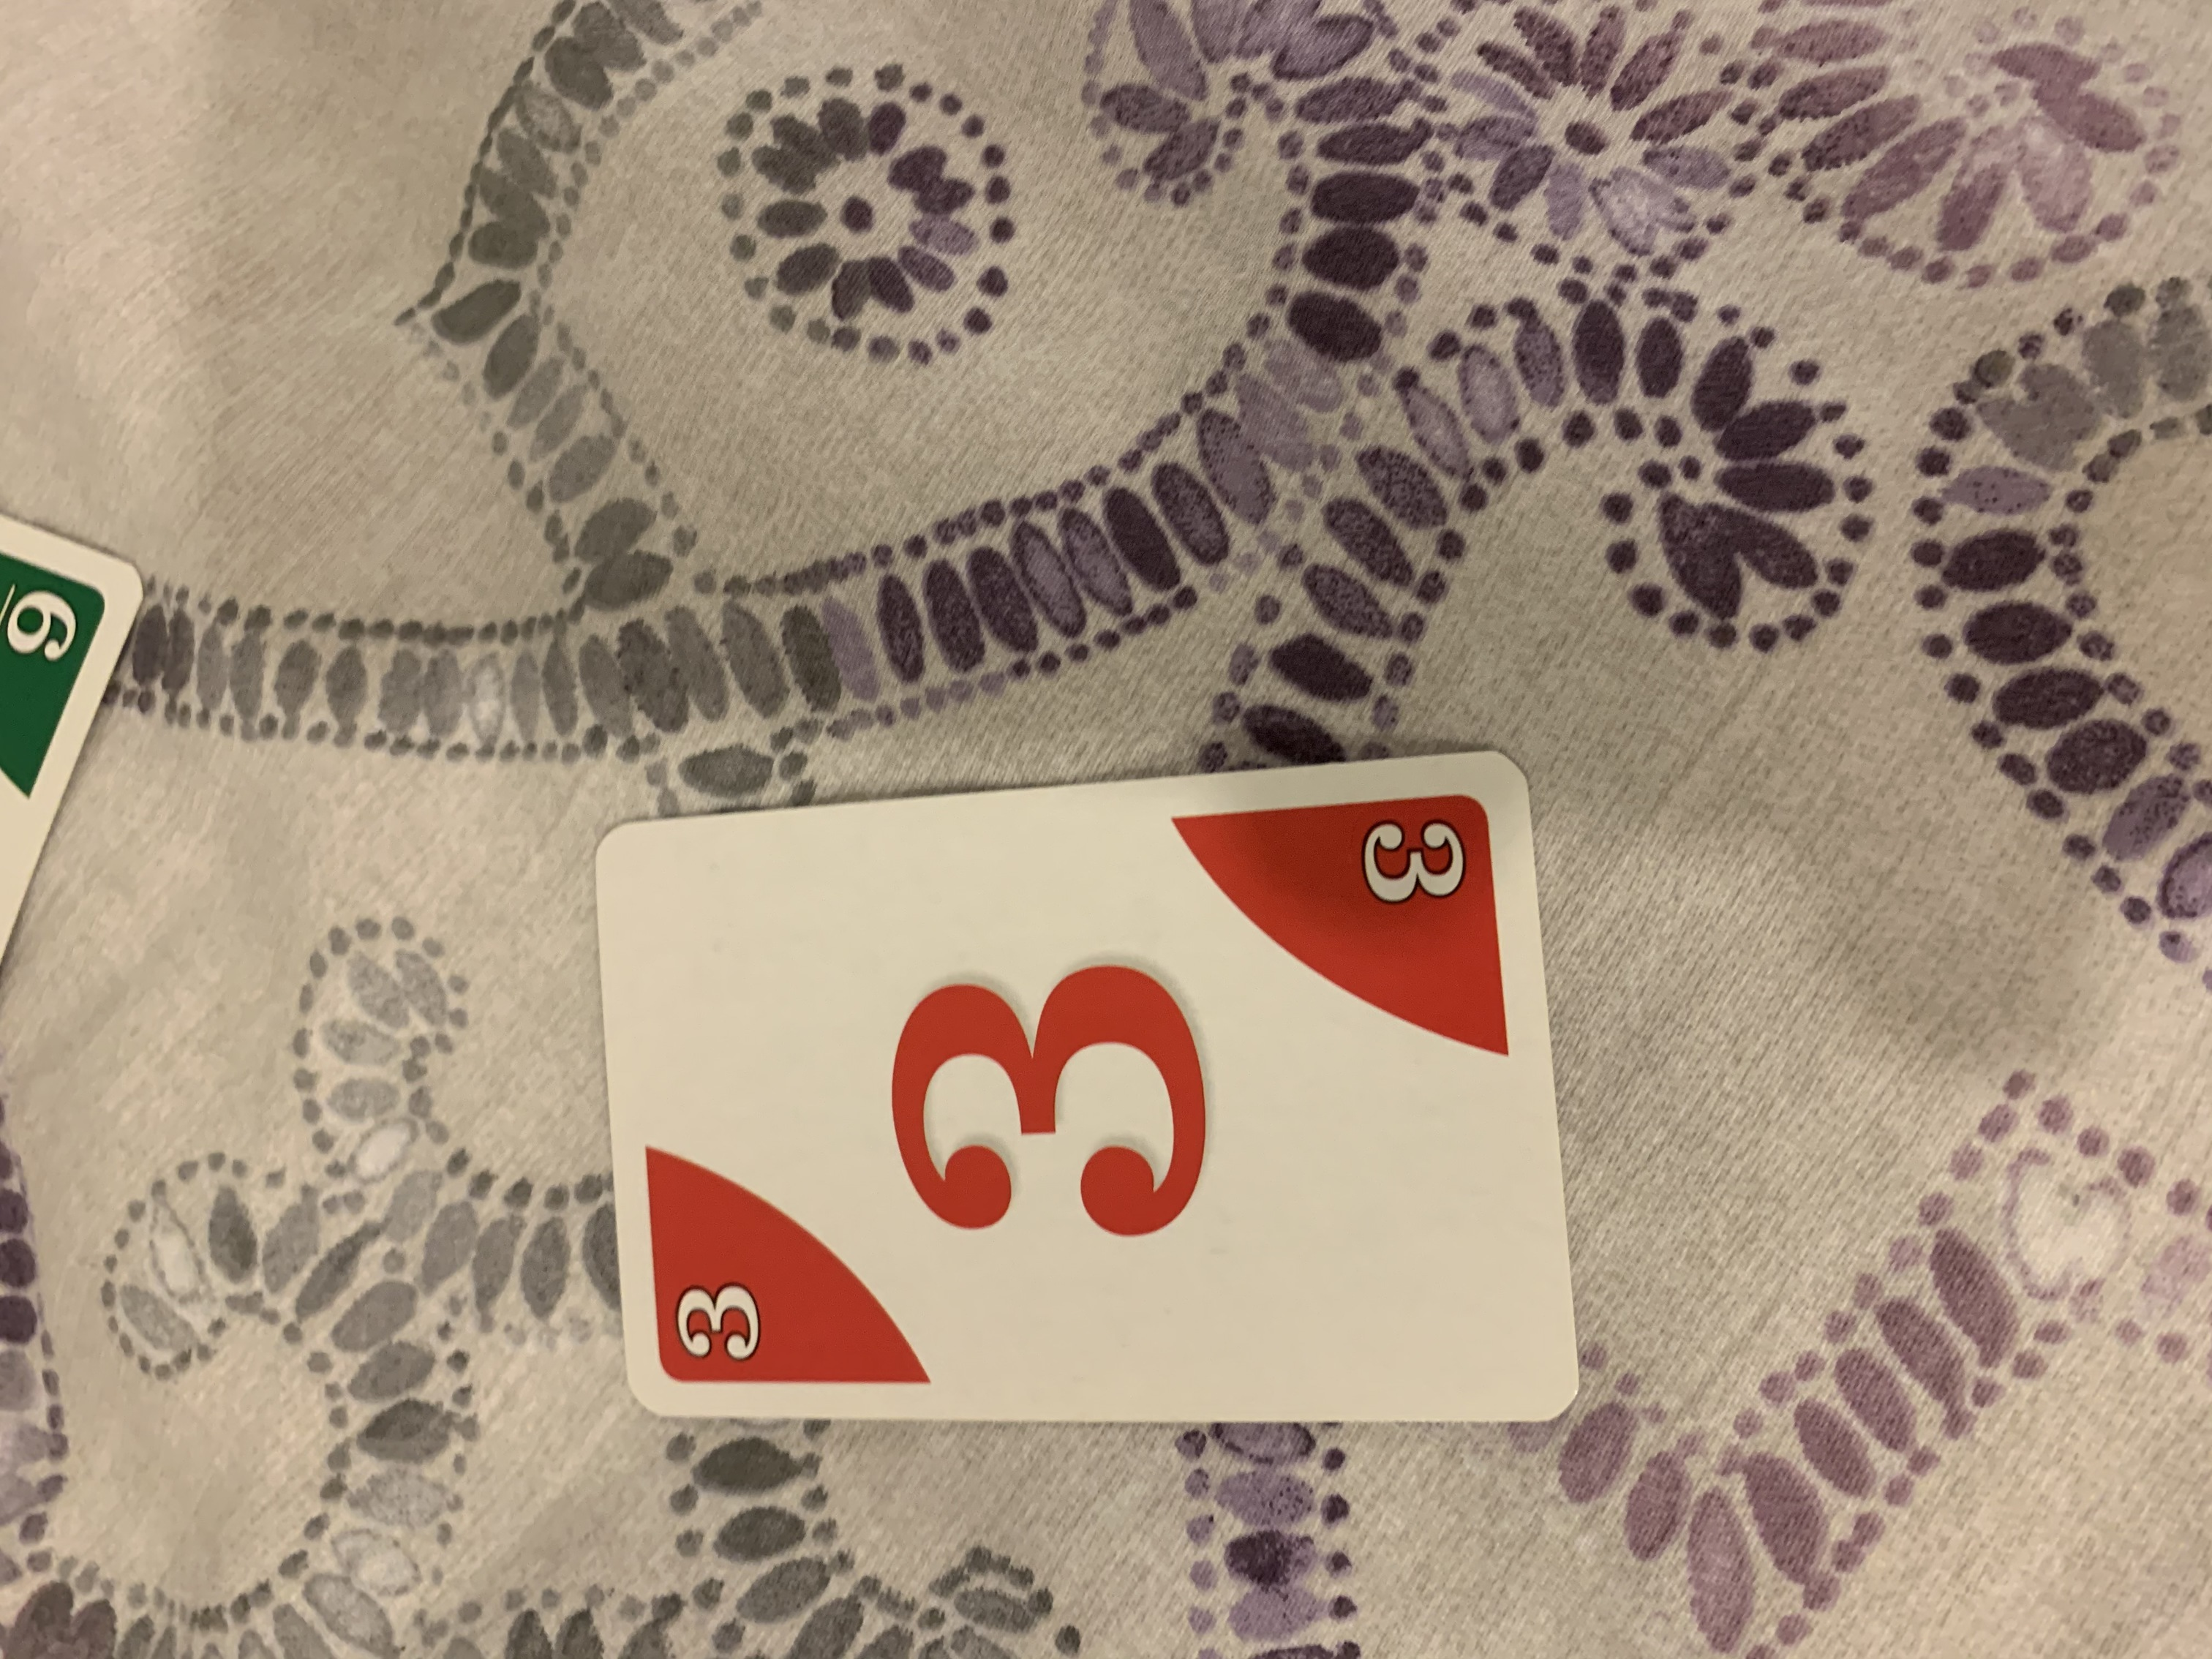three: (585, 746, 1601, 1425)
